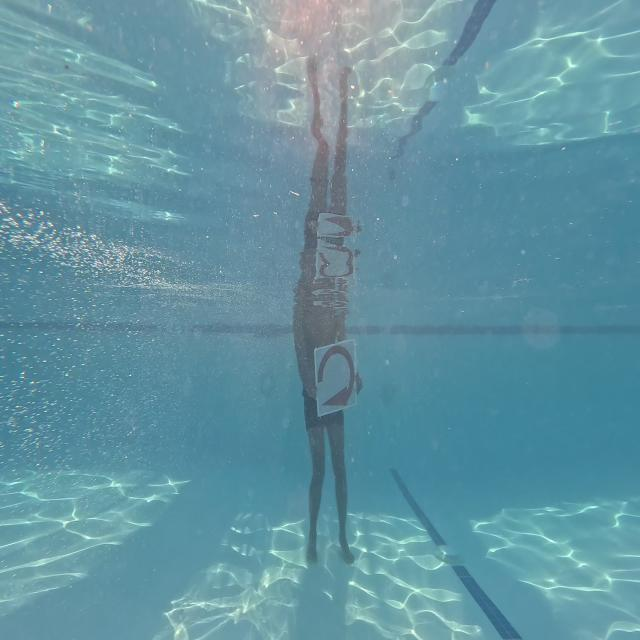red_side: (314, 343, 358, 413)
